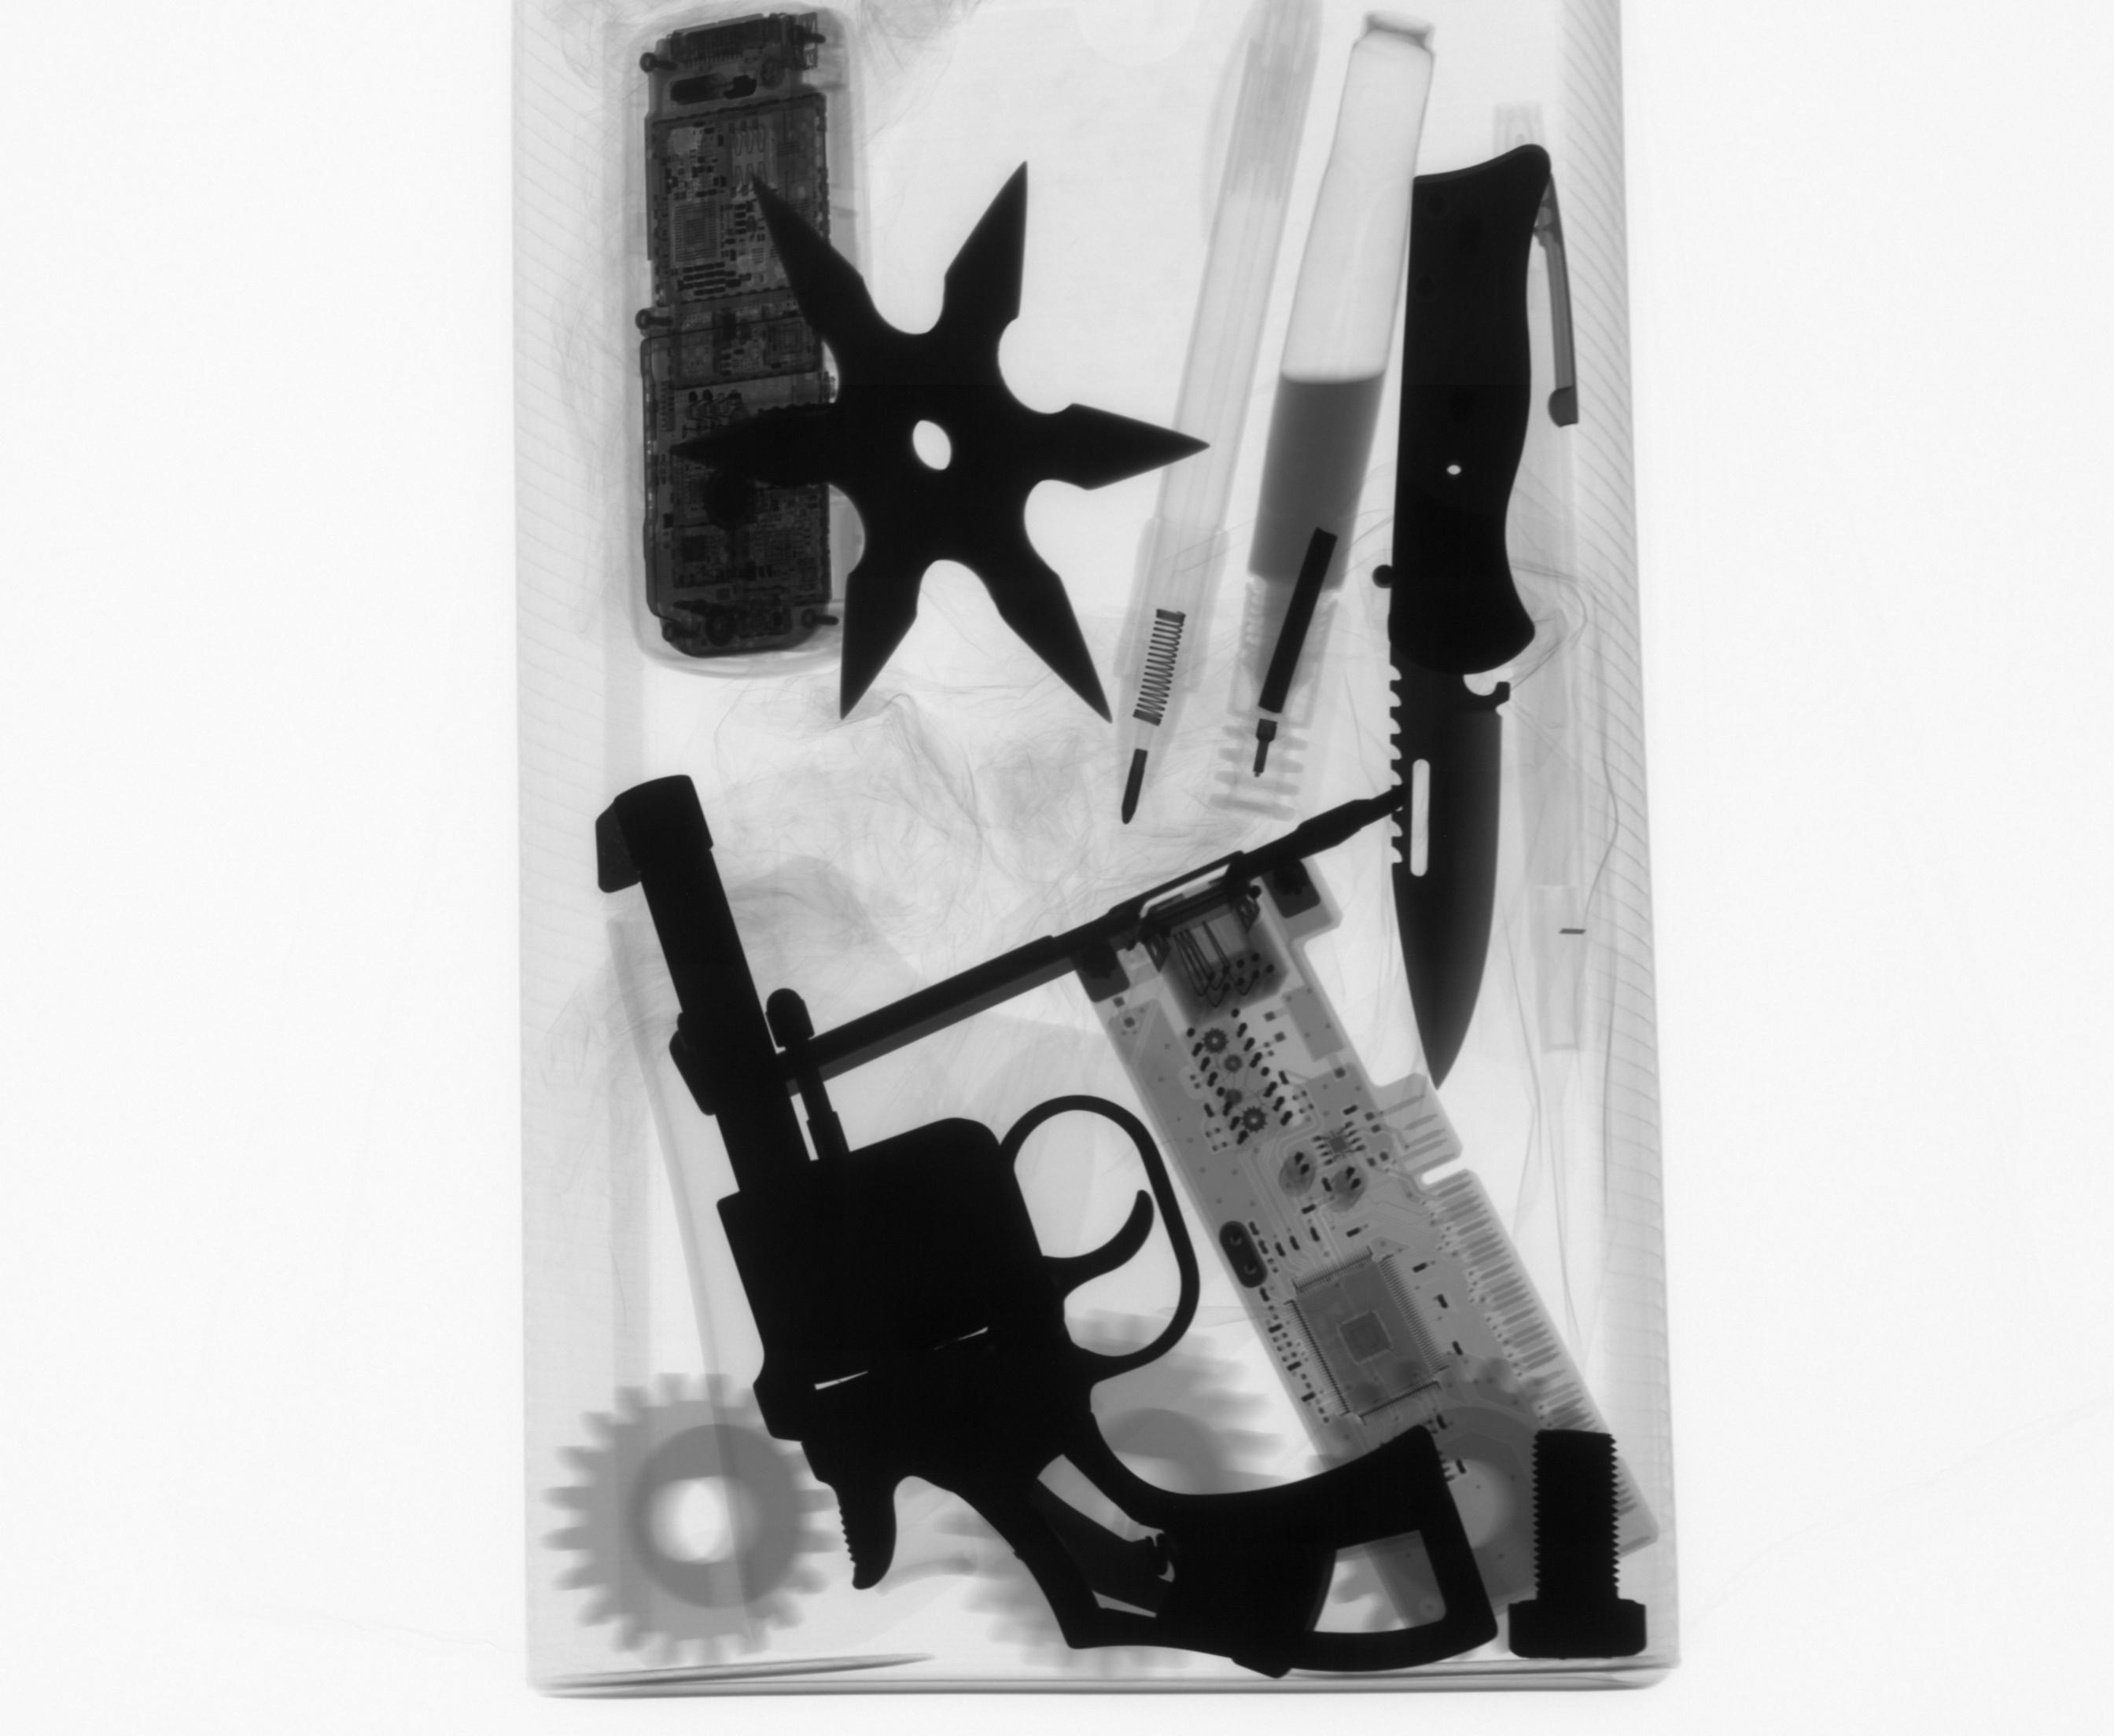Handgun: (588, 769, 1510, 1685)
Knife: (1363, 135, 1556, 1099)
Shuriken: (667, 153, 1220, 730)
